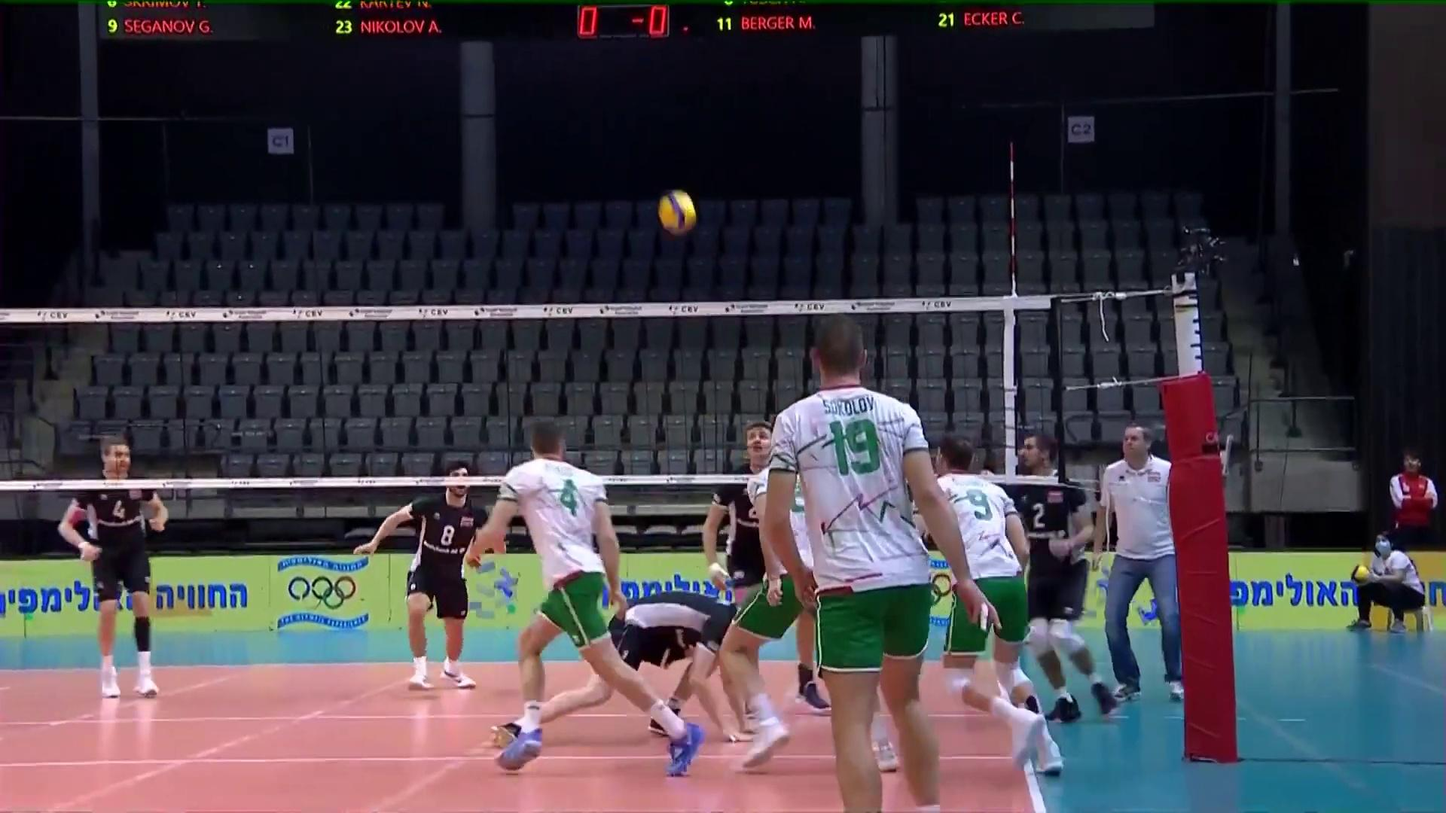ball: (657, 190, 700, 237)
